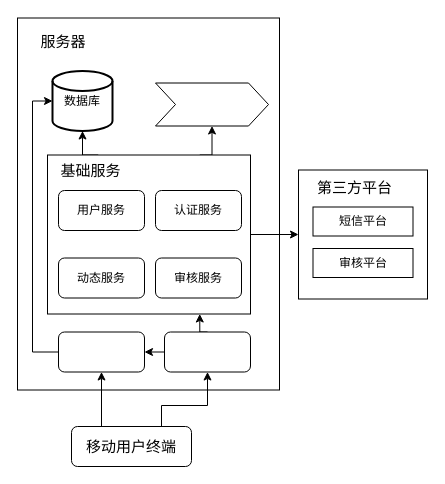
The diagram is 445 pixels wide and 484 high, and some of its shapes have lost their labels. The shapes that lost their labels are listed below. From the top down, each one's box as (x1, y1, x2, y2) in pixels, then its label:
(154, 82, 268, 126): 消息队列
(58, 331, 144, 372): 聊天服务
(164, 331, 250, 372): 网关
